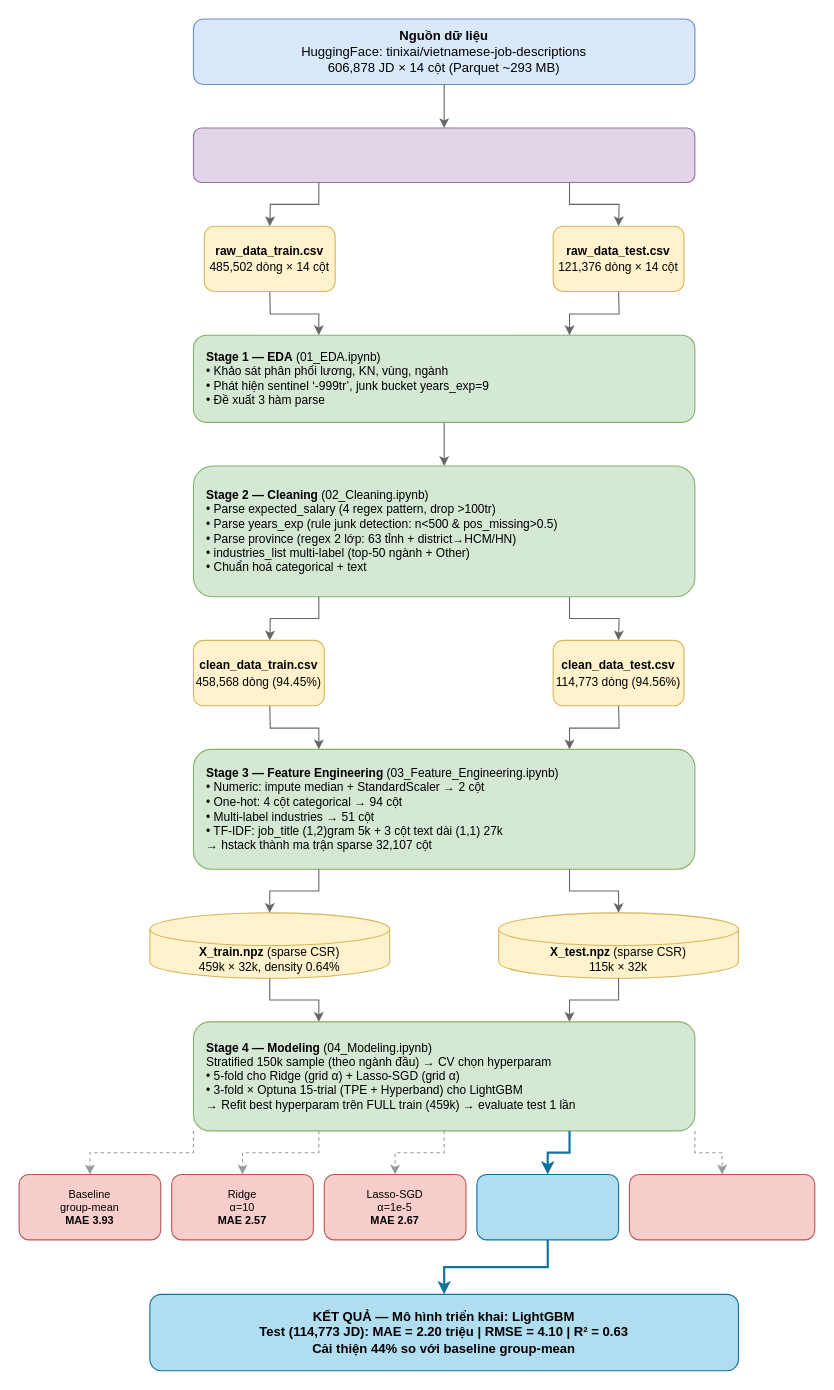
Image size: 834x1390. Some labels were removed from this diagram. The shapes that lost their labels are listed below. From the top down, each one's centre as x and y in pixels, then its label:
At pixel 443 155: "Stage 0 — Tải + Split 80/20 (random_state=42) notebooks/_download_and_split.py".
At pixel 547 1206: "★ LightGBM Optuna best MAE 2.20".
At pixel 721 1206: "Ensemble weighted MAE 2.40 (không cải thiện)".
